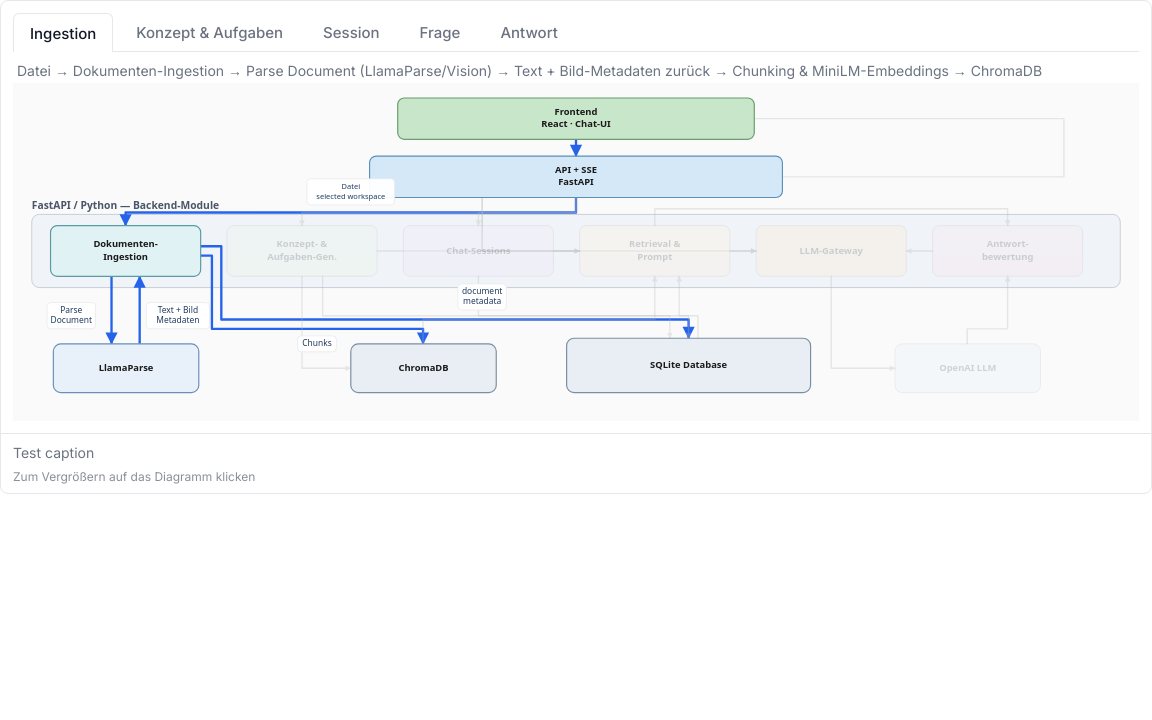
Scenario: GenAI4PCFlowDiagram › renders architecture components and phase tabs
Expected: the picture named "GenAI4PC Backend-Architektur: FastAPI mit sechs Modulen" is shown, [13,83,1139,421]
Expected: the tab "Konzept & Aufgaben" is shown, [119,13,300,52]
Step 1. Click the tab "Frage" → (440, 33), box [403,13,477,52]
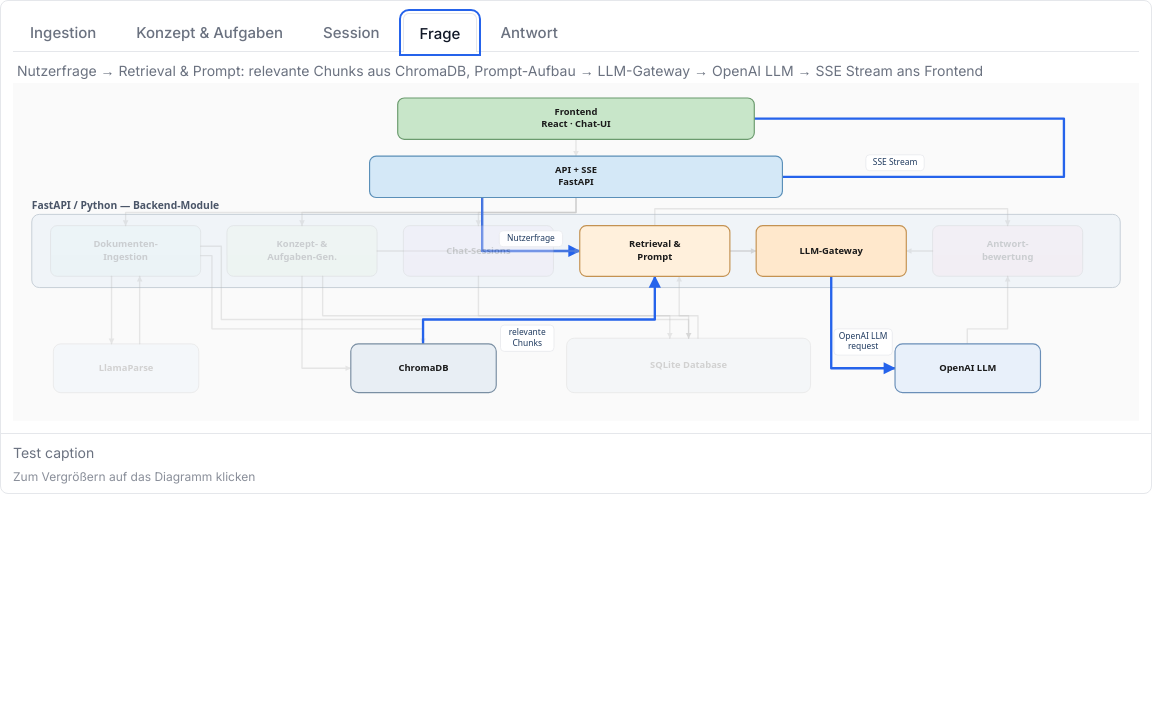
Expected: the panel "frage" shows "relevante Chunks aus ChromaDB", [17,62,983,79]
Step 2. Click the tab "Antwort" → (529, 33), box [483,13,575,52]
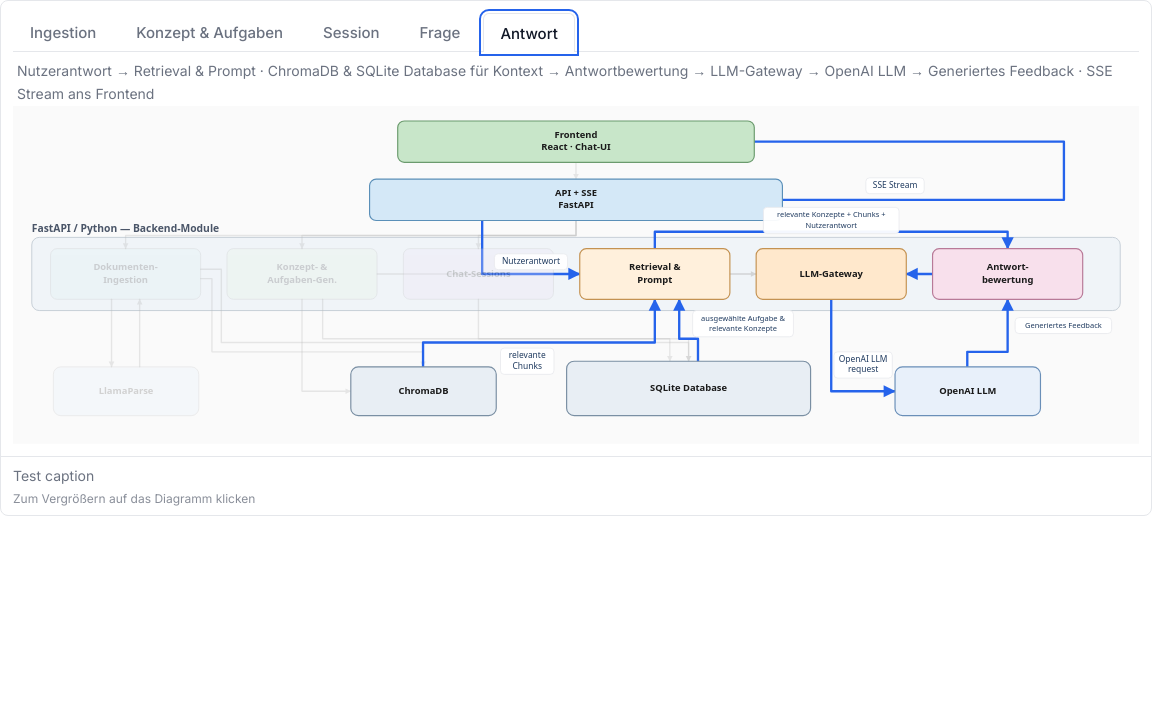
Expected: the panel "antwort" shows "SSE Stream ans Frontend", [17,62,1113,102]
Step 3. Click the button with aria-label "GenAI4PC Pipeline-Diagramm vergrößern" → (576, 281), box [1,106,1151,456]
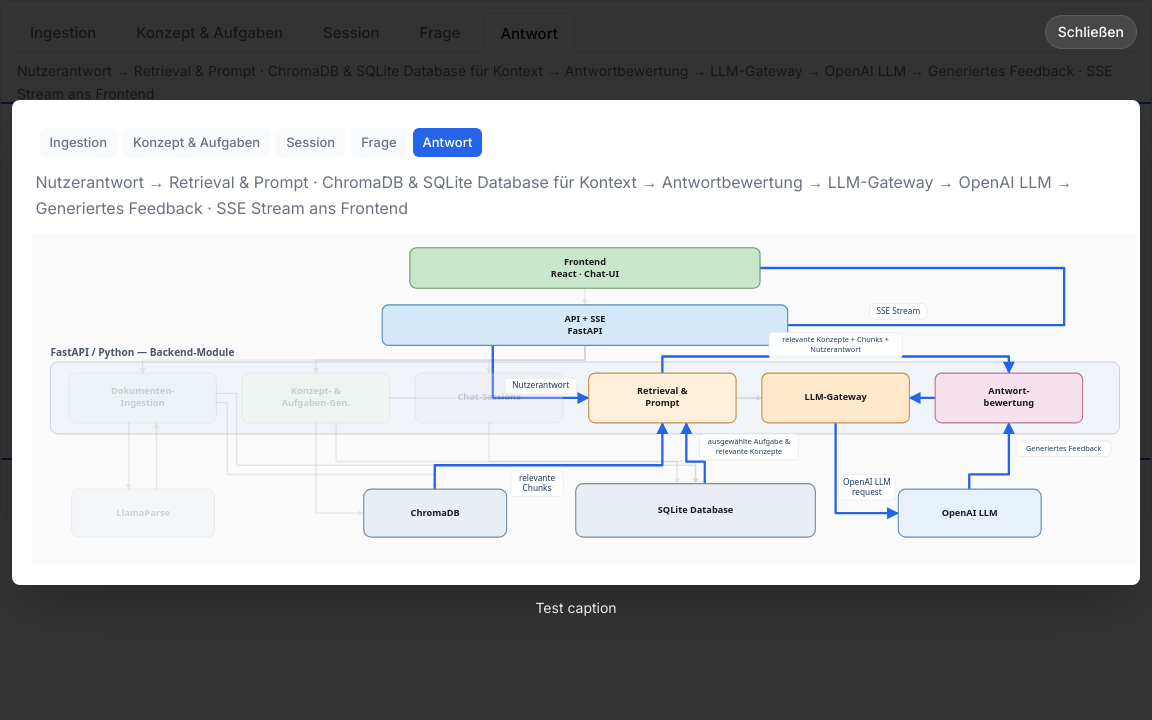
Expected: the dialog is shown
Expected: the button "Schließen" is shown, [1046,16,1136,48]
